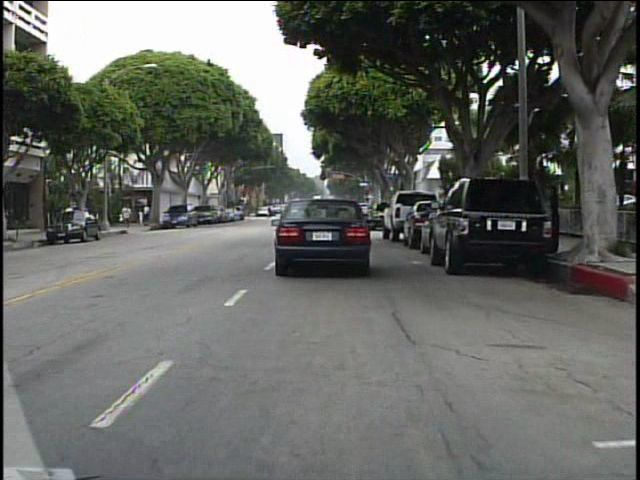person: (122, 201, 137, 233), (142, 201, 155, 230), (266, 202, 276, 222)
